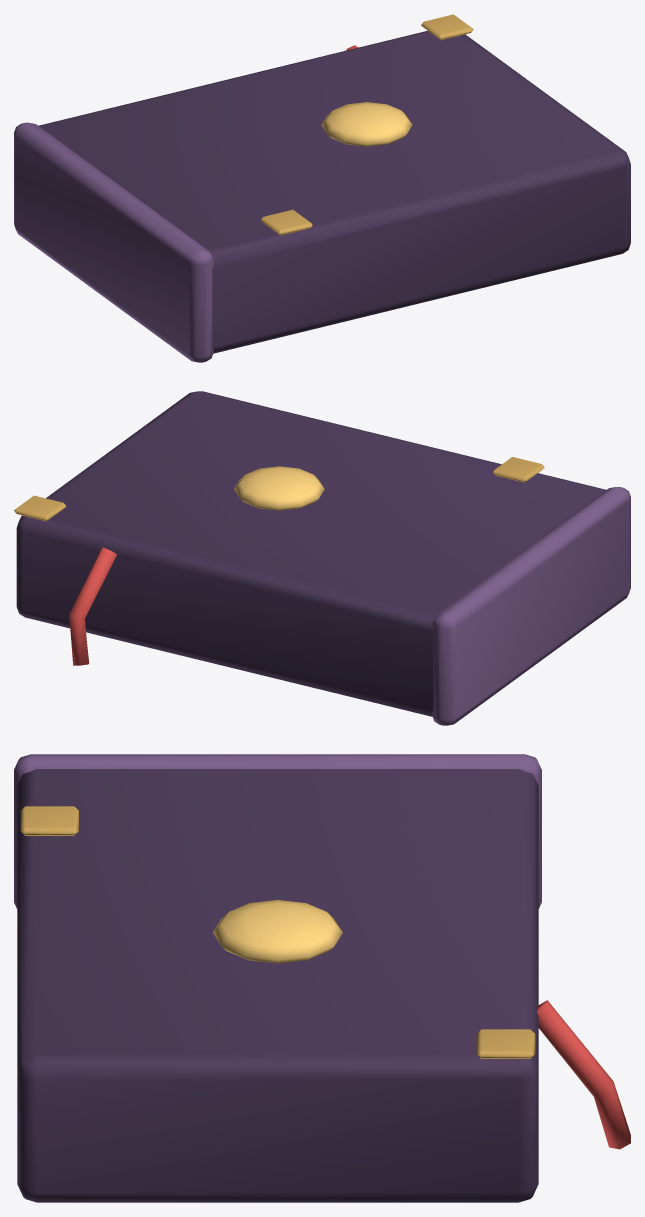
File: spell_book.glb
The picture shows the model from 3 angles, top to bottom: view 1: azimuth 30°, elevation 25°; view 2: azimuth 150°, elevation 25°; view 3: azimuth 270°, elevation 25°; orthographic projection. The views are drawn at different scales.
Parts seen in each view (by area): view 1: LH_spell_book; view 2: LH_spell_book; view 3: LH_spell_book.
Part boxes in pixels (<box>): LH_spell_book: <box>14,14,630,362</box>; LH_spell_book: <box>14,391,630,725</box>; LH_spell_book: <box>14,754,630,1202</box>.
Bounding box in the file's own units: 0.224 × 0.06 × 0.1894.
